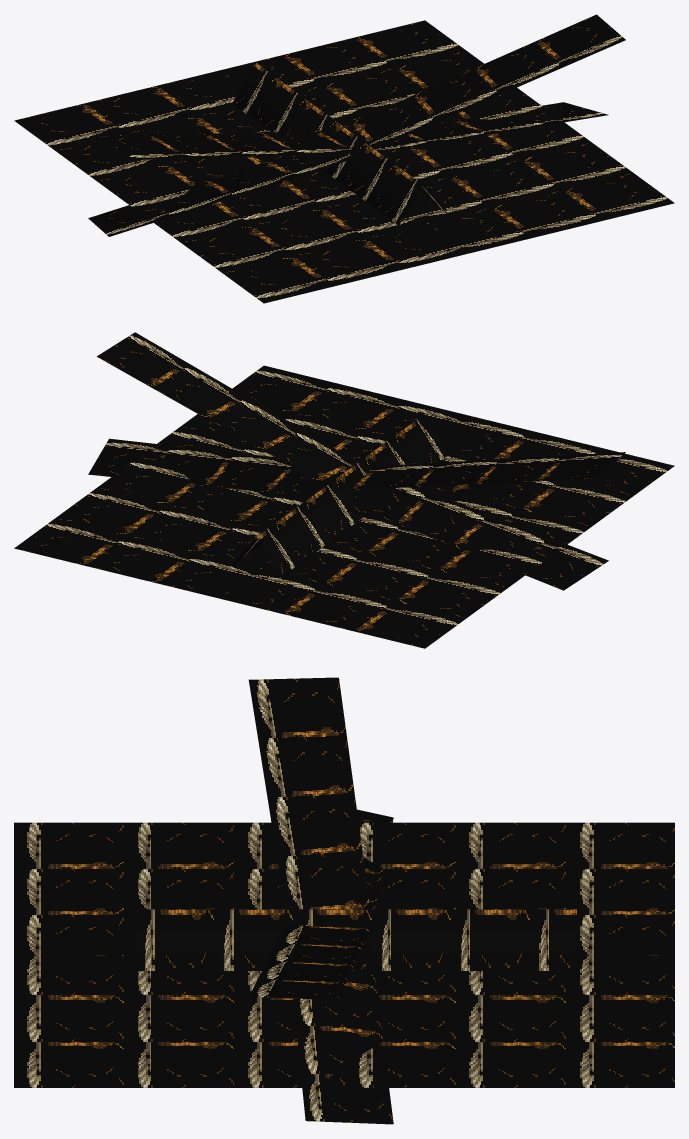
The model's file is 5035musi45.gltf.
3 renders of one model, top to bottom at view 1: azimuth 30°, elevation 25°; view 2: azimuth 150°, elevation 25°; view 3: azimuth 270°, elevation 25°, orthographic. The views are drawn at different scales.
Parts seen in each view (by area): view 1: 5035musi45; view 2: 5035musi45; view 3: 5035musi45.
Part boxes in pixels (x1,y1,x2,y2): 5035musi45: [14, 14, 674, 303]; 5035musi45: [14, 332, 674, 648]; 5035musi45: [14, 677, 674, 1124].
Size of the model in its own units: 0.2686 by 0.0515 by 0.2324.
3 materials, 3 textured.
